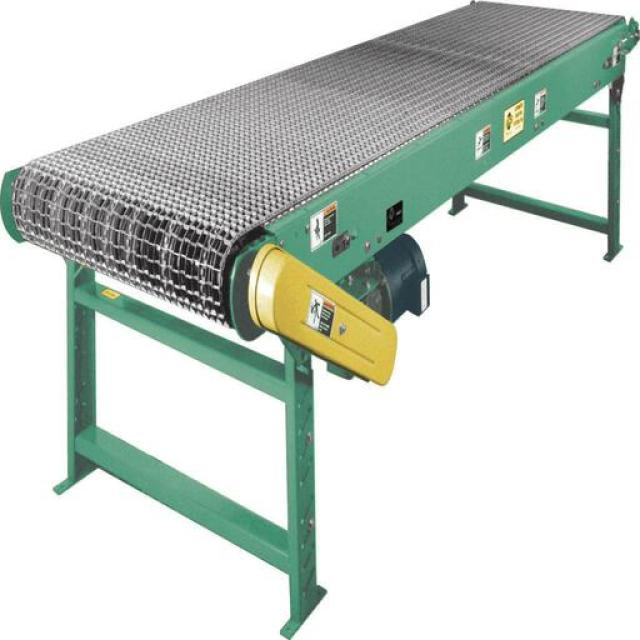conveyor: (8, 0, 629, 327)
